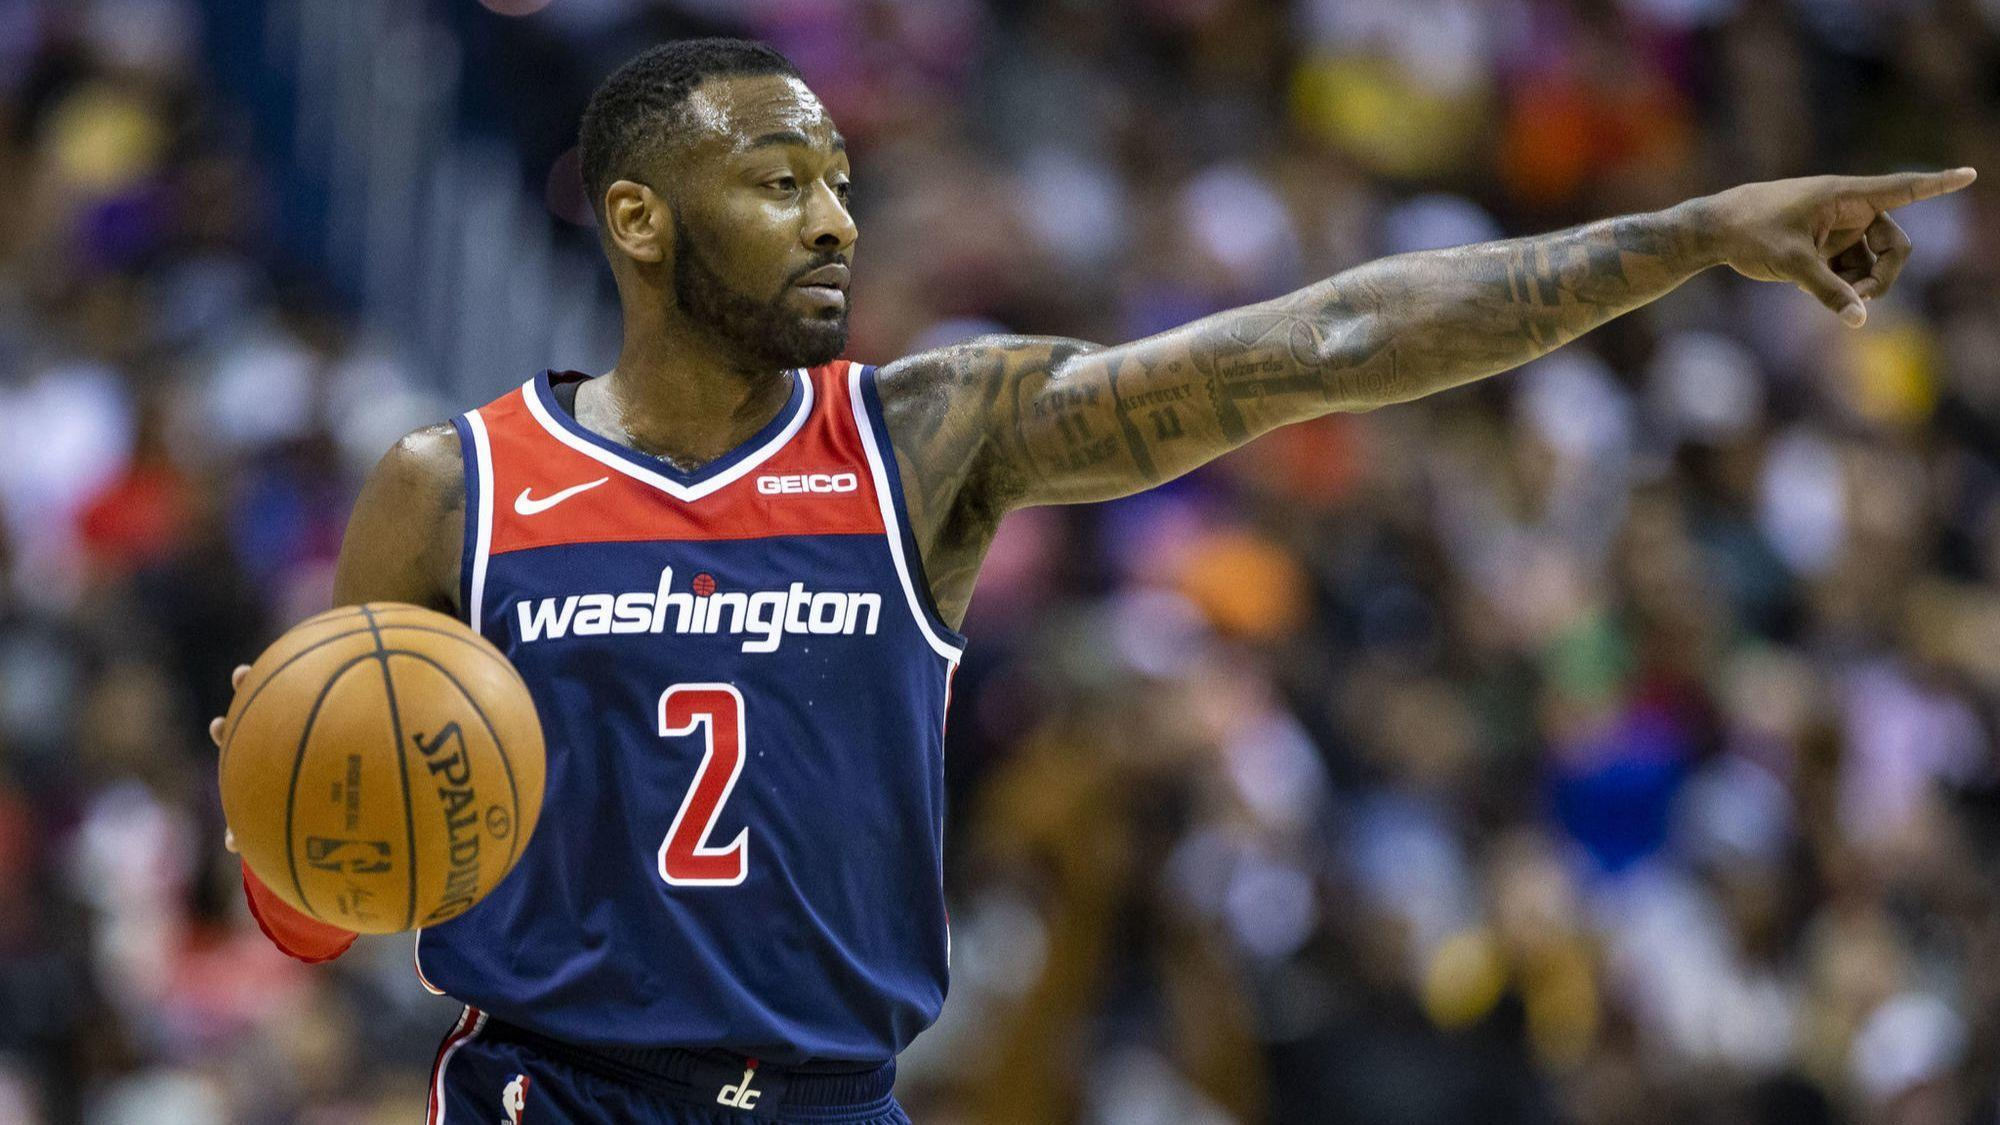geico: (760, 468, 861, 501)
